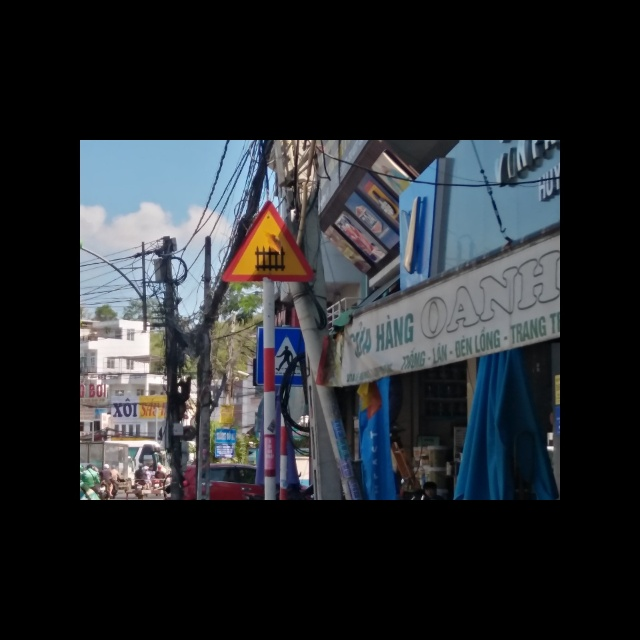Giao nhau với đường sắt có rào chắn: (218, 199, 316, 283)
